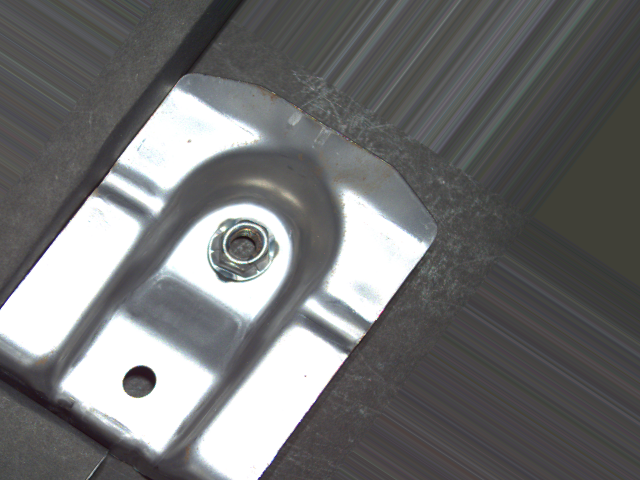good: (204, 215, 284, 285)
